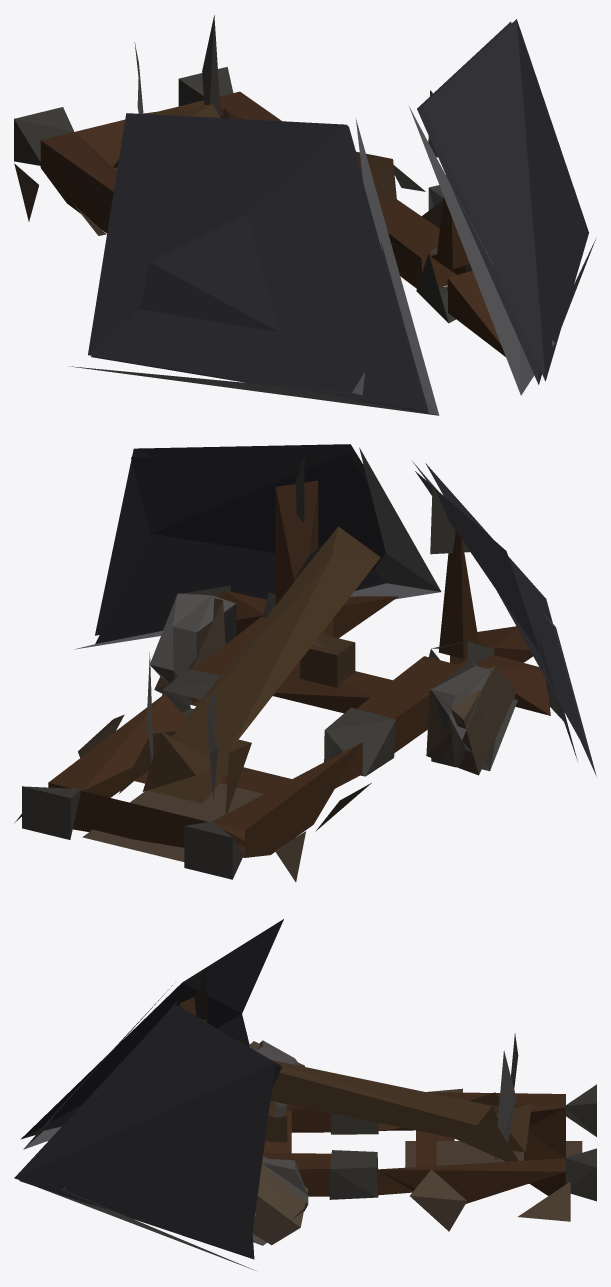
File: ballista-b.lod2.glb
The picture shows the model from 3 angles, top to bottom: view 1: azimuth 30°, elevation 25°; view 2: azimuth 150°, elevation 25°; view 3: azimuth 270°, elevation 25°; orthographic projection. The views are drawn at different scales.
Parts seen in each view (by area): view 1: Metalic_shield_frame_Metalic_Shield_0; view 2: Metalic_shield_frame_Metalic_Shield_0; view 3: Metalic_shield_frame_Metalic_Shield_0.
Part boxes in pixels (<box>): Metalic_shield_frame_Metalic_Shield_0: <box>14,15,595,415</box>; Metalic_shield_frame_Metalic_Shield_0: <box>14,444,596,882</box>; Metalic_shield_frame_Metalic_Shield_0: <box>14,919,596,1270</box>.
Bounding box in the file's own units: 3.42 × 1.52 × 4.06.
